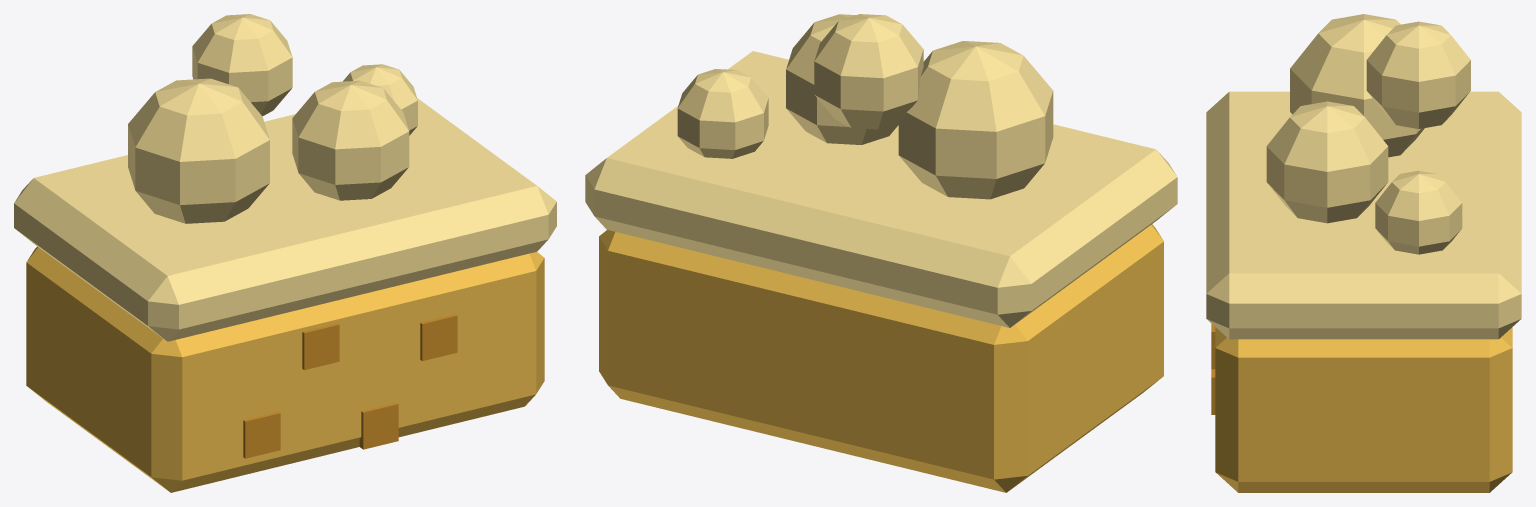
The model's file is CleanACat_Tool_SpongeGolden.fbx.
3 views of the same model, side by side, from view 1: azimuth 30°, elevation 25°; view 2: azimuth 150°, elevation 25°; view 3: azimuth 270°, elevation 25° (orthographic). The views are drawn at different scales.
Visible parts, largest first — view 1: CleanACat_Tool_SpongeGolden; view 2: CleanACat_Tool_SpongeGolden; view 3: CleanACat_Tool_SpongeGolden.
Part boxes in pixels (x1=…): CleanACat_Tool_SpongeGolden: x1=14, y1=14, x2=556, y2=492; CleanACat_Tool_SpongeGolden: x1=585, y1=14, x2=1177, y2=492; CleanACat_Tool_SpongeGolden: x1=1206, y1=14, x2=1521, y2=492.
Bounding box in the file's own units: 1.25 × 1.08 × 0.828.
Materials: 1 (1 with a texture image).
